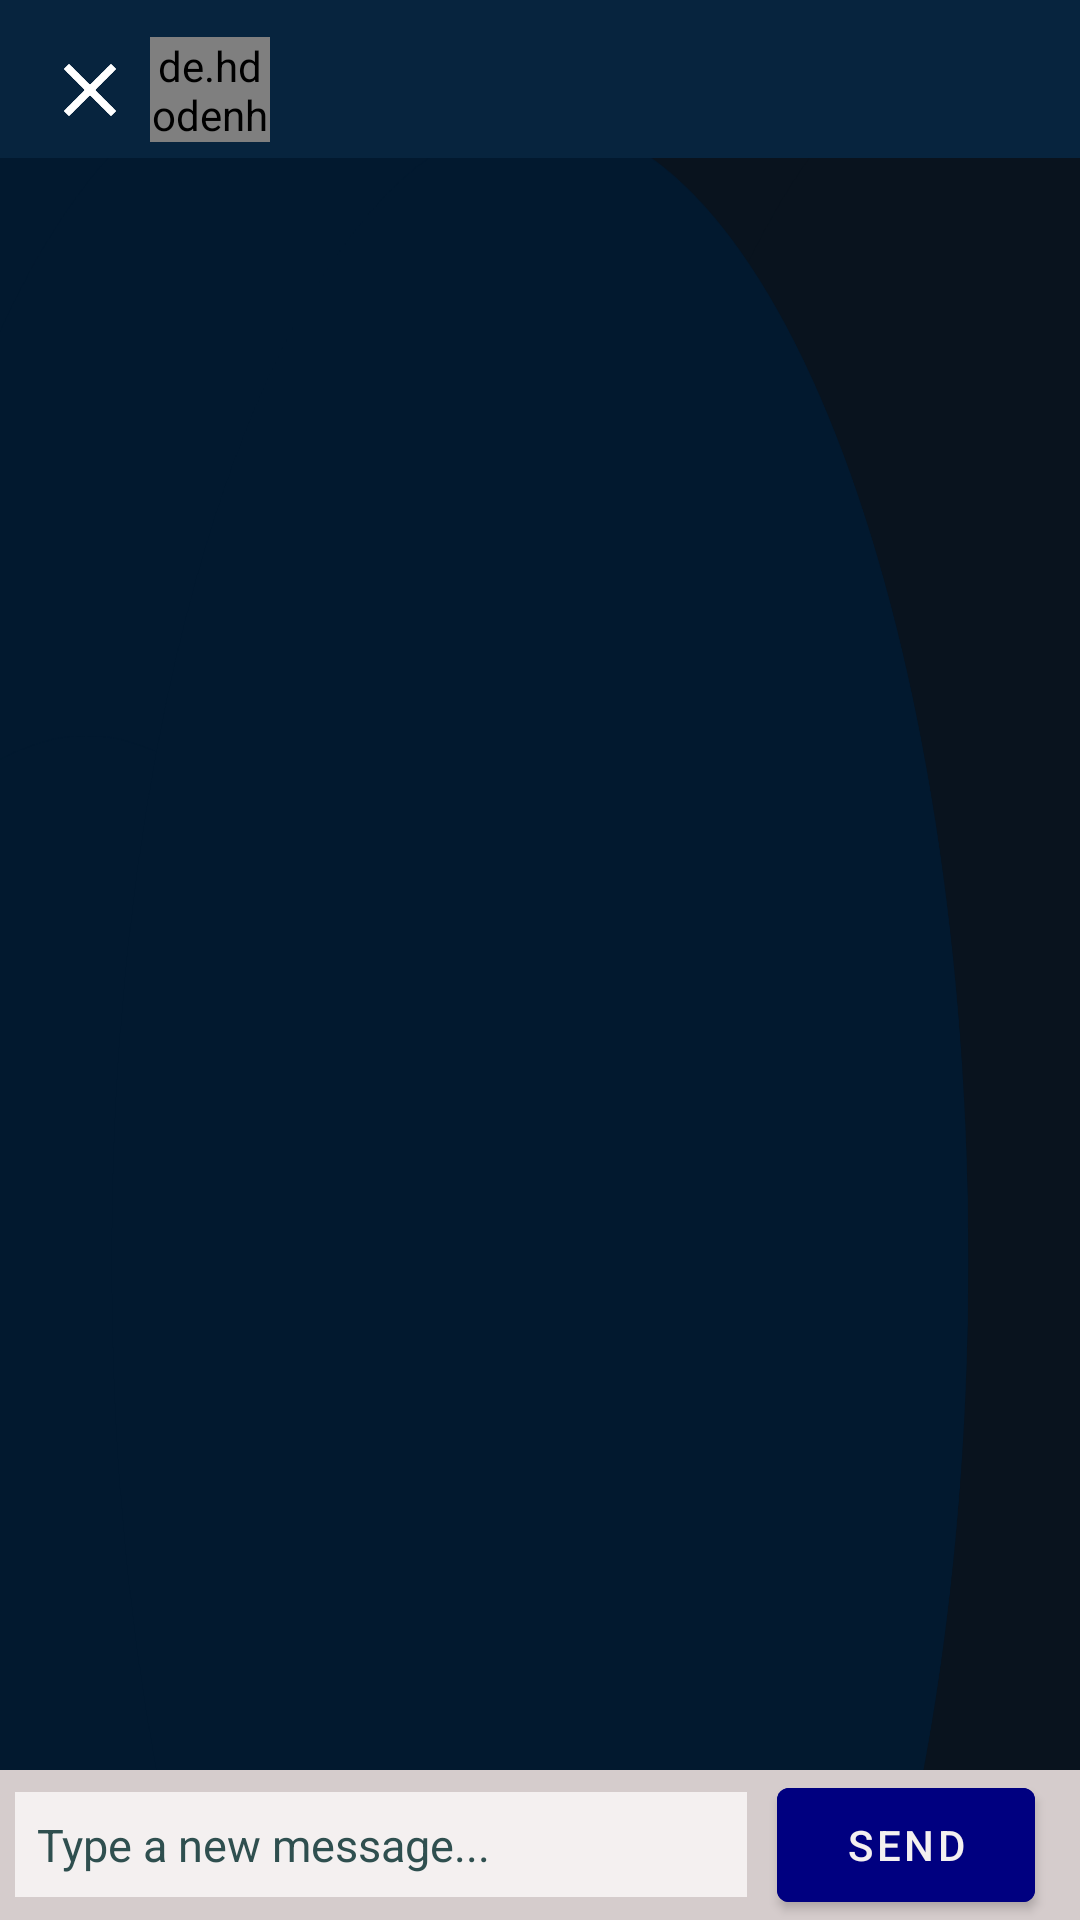

Icon bounding boxes for this 1080×1920 phone screenshot, format (x1=x1, y1=y1, x2=x2, y2=y2):
close: (x1=64, y1=64, x2=116, y2=116)
